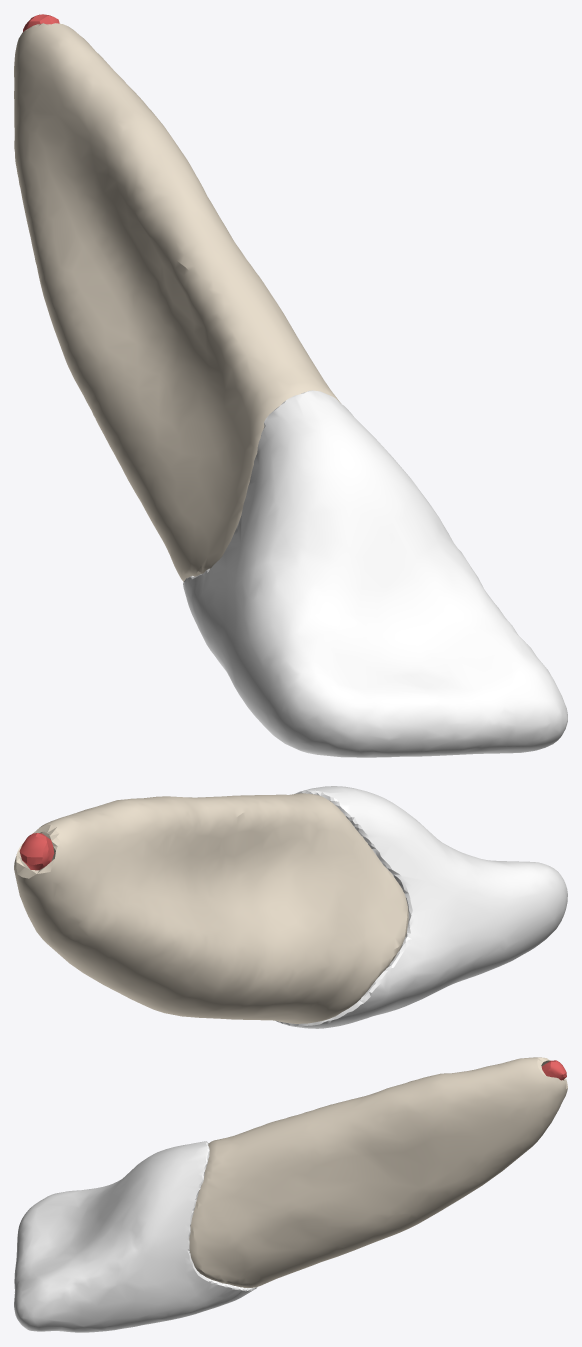
The model's file is 乳牙下颌切牙.fbx.
3 views of the same model, one above another, from view 1: azimuth 30°, elevation 25°; view 2: azimuth 150°, elevation 25°; view 3: azimuth 270°, elevation 25° (orthographic). The views are drawn at different scales.
Visible parts, largest first — view 1: texture_B, texture_W; view 2: texture_B, texture_W, texture_S; view 3: texture_B, texture_W, texture_S.
Part boxes in pixels (x1,y1,x2,y2): texture_B: (14, 23, 341, 581); texture_W: (183, 390, 567, 757); texture_B: (14, 793, 408, 1023); texture_W: (275, 786, 567, 1028); texture_S: (19, 833, 54, 870); texture_B: (189, 1057, 567, 1287); texture_W: (14, 1141, 257, 1332); texture_S: (541, 1060, 566, 1080).
Bounding box in the file's own units: 6.88 × 10.53 × 20.38.
3 materials, 3 textured.
